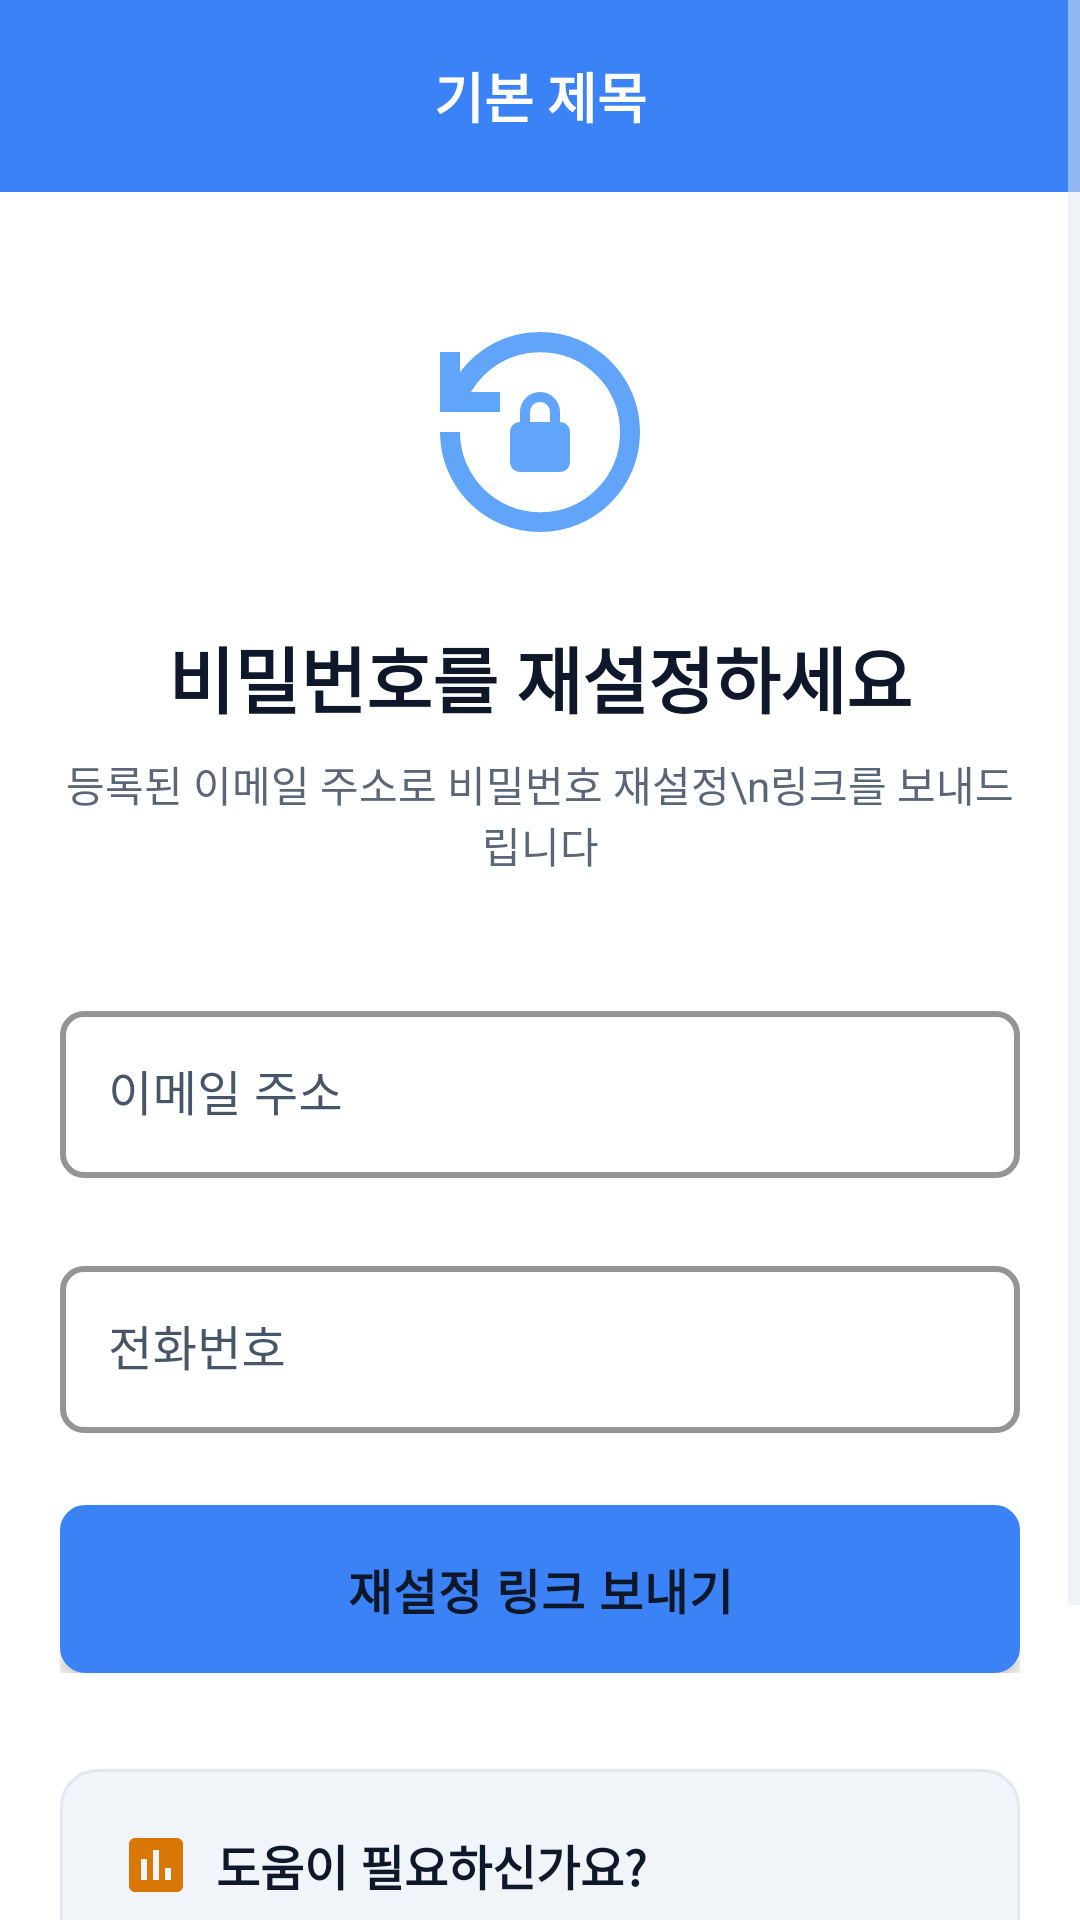

Icon click points for this 1080 × 1920 phone screenshot, format (x,y):
password reset: (540,432)
